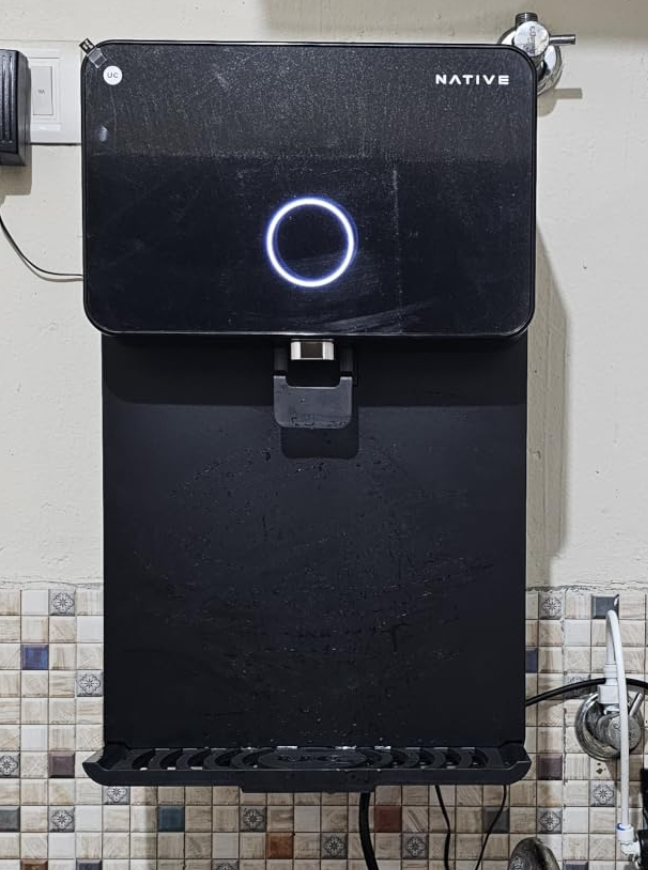water purifier: (56, 33, 574, 801)
